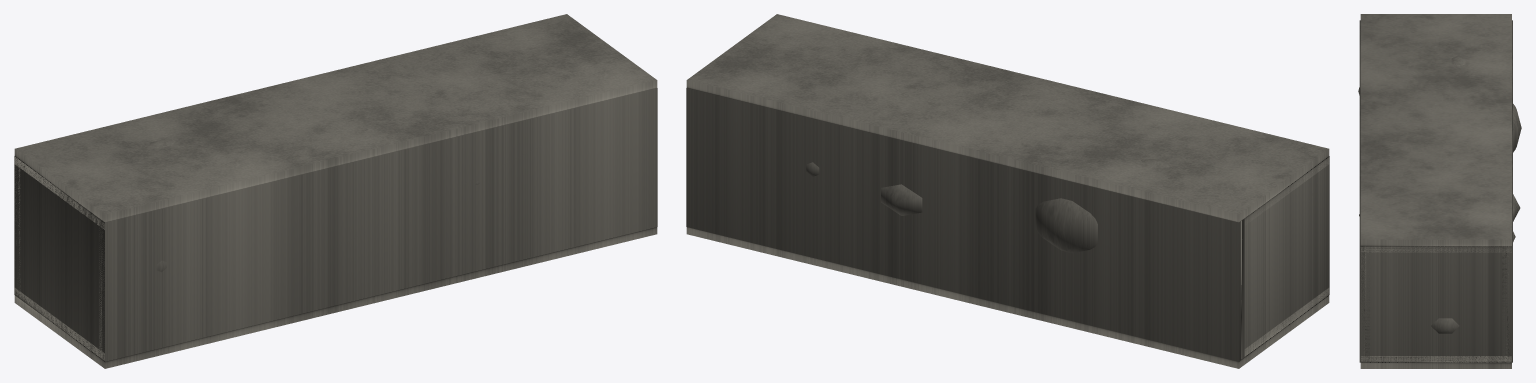
The model's file is HILL_Gabion_3m.obj.
3 renders of one model, left to right at view 1: azimuth 30°, elevation 25°; view 2: azimuth 150°, elevation 25°; view 3: azimuth 270°, elevation 25°, orthographic. The views are drawn at different scales.
Visible parts, largest first — view 1: HILL_Gabion_3m; view 2: HILL_Gabion_3m; view 3: HILL_Gabion_3m.
Boxes of the visible parts, x1,y1,x2,y2 form: HILL_Gabion_3m: [14, 14, 657, 368]; HILL_Gabion_3m: [686, 14, 1329, 368]; HILL_Gabion_3m: [1358, 14, 1521, 368].
Size of the model in its own units: 3.03 by 0.8155 by 0.9174.
Materials: 1 (1 with a texture image).
